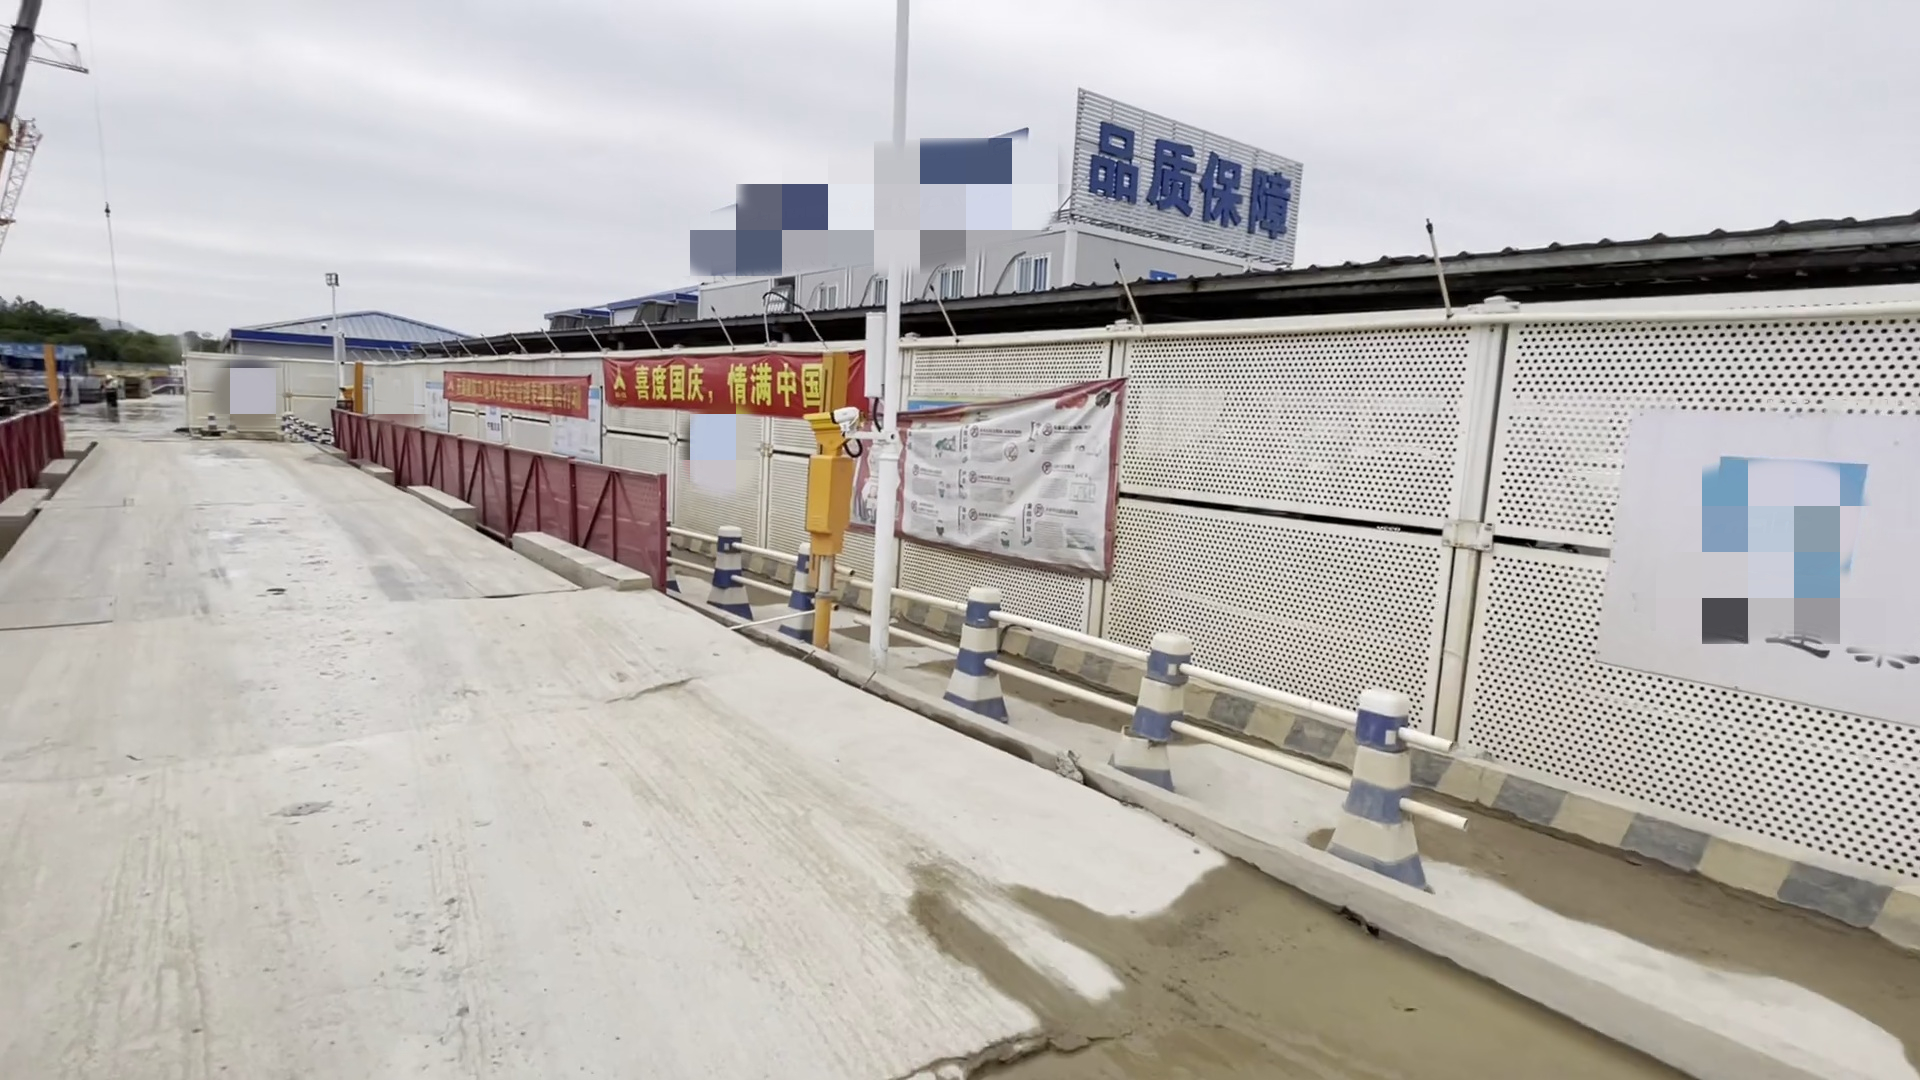fence: (467, 439, 670, 580), (349, 420, 464, 506)
person: (93, 369, 128, 419)
slogan: (1086, 122, 1289, 246), (608, 356, 822, 411), (440, 369, 592, 408)
vest: (100, 381, 119, 392)
